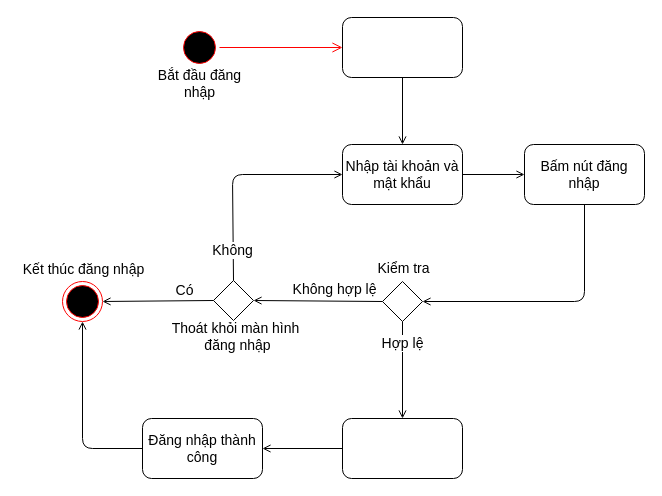
The diagram is 662 pixels wide and 496 high, and some of its shapes have lost their labels. Each missing label, with the centre of its shape:
Hiển thị màn hình đăng nhập: the point at 402,47
Truy cập vào hệ thống: the point at 402,448
